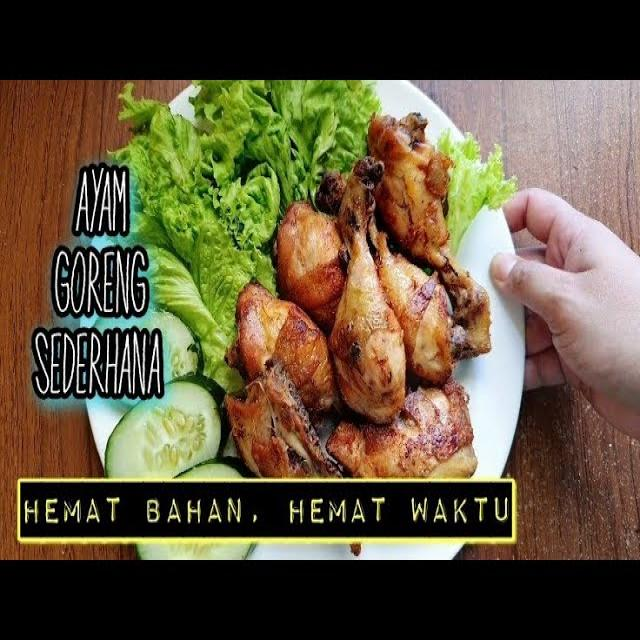Frango: (368, 114, 489, 358), (322, 170, 456, 390), (347, 380, 476, 556), (333, 161, 404, 428), (227, 362, 344, 518), (276, 205, 377, 376), (231, 281, 341, 423)
